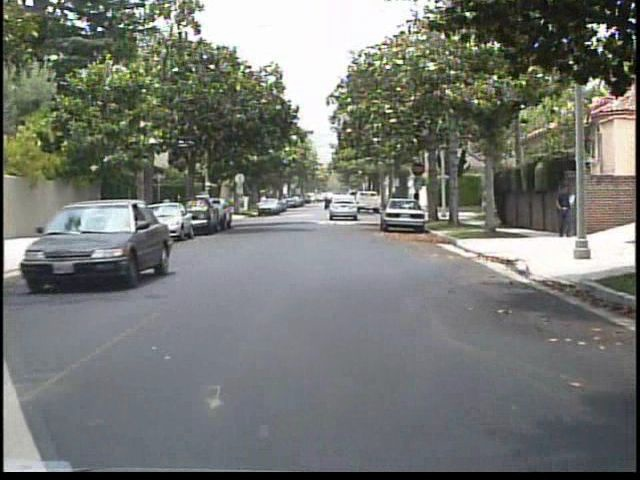person: (552, 177, 574, 242), (160, 191, 176, 232)
